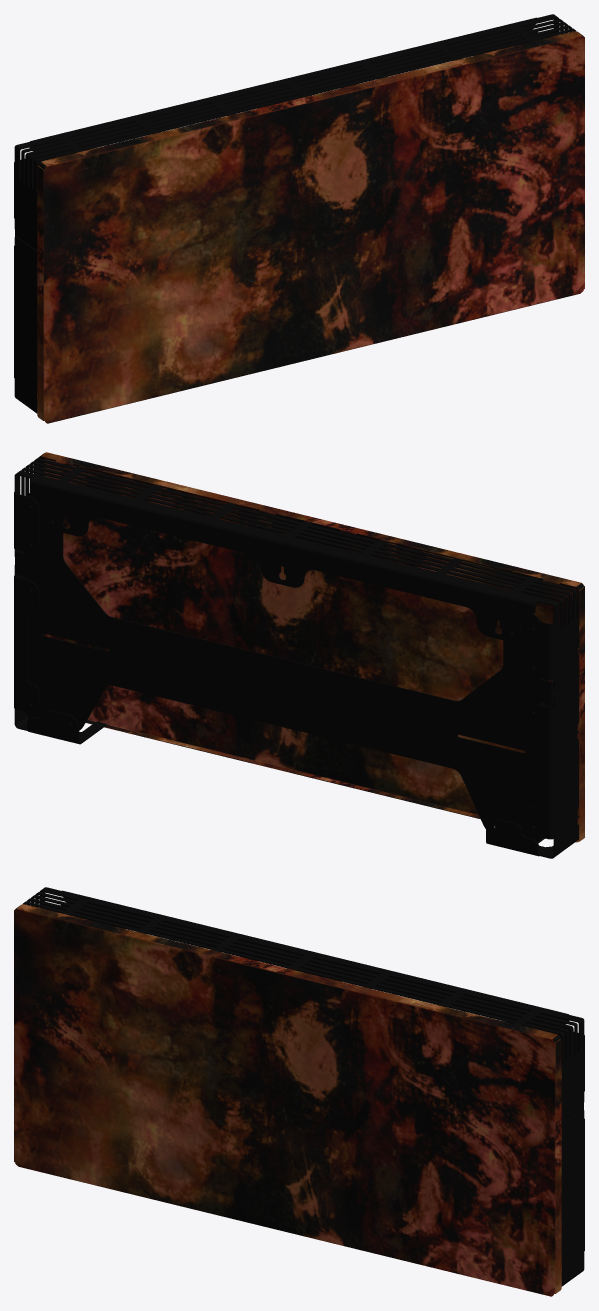
Rendered from rad2b.glb.
3 renders of one model, top to bottom at view 1: azimuth 30°, elevation 25°; view 2: azimuth 150°, elevation 25°; view 3: azimuth 330°, elevation 25°, orthographic.
Parts seen in each view (by area): view 1: Corner.001, Cut Out.6, Corner.6; view 2: Corner.001, Corner.3, Cut Out.6, Corner.6, Assemble.1; view 3: Corner.001, Cut Out.6, Assemble.1.
Boxes of the visible parts, x1,y1,x2,y2 form: Corner.001: [37, 31, 584, 423]; Cut Out.6: [14, 14, 583, 246]; Corner.6: [14, 236, 37, 413]; Corner.001: [37, 452, 584, 842]; Corner.3: [15, 492, 578, 841]; Cut Out.6: [14, 453, 583, 689]; Corner.6: [486, 677, 578, 858]; Assemble.1: [14, 565, 106, 744]; Corner.001: [14, 904, 561, 1296]; Cut Out.6: [15, 887, 584, 1119]; Assemble.1: [561, 1109, 584, 1286].
Size of the model in its own units: 1 by 0.457 by 0.103.
Materials: 2 (1 with a texture image).
